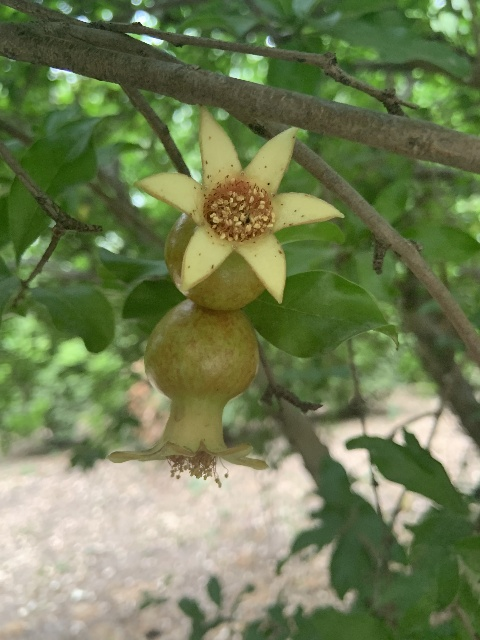early-fruit: (133, 108, 344, 309), (106, 300, 269, 489)
